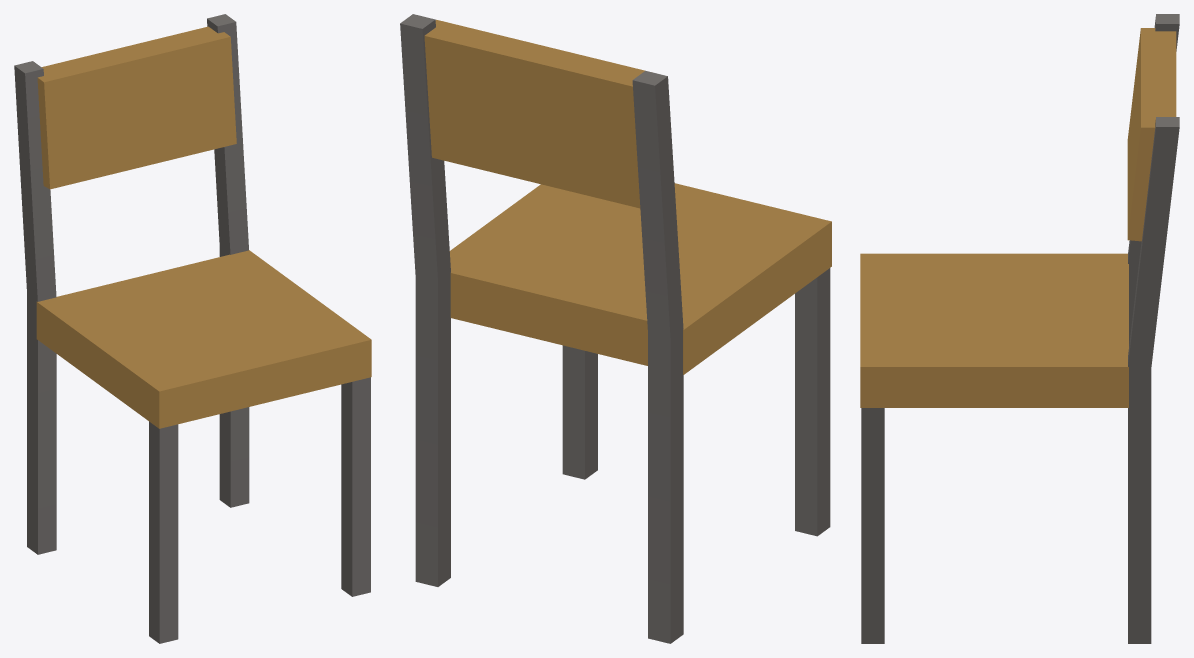
File: Chair.glb
3 renders of one model, left to right at view 1: azimuth 30°, elevation 25°; view 2: azimuth 150°, elevation 25°; view 3: azimuth 270°, elevation 25°, orthographic. The views are drawn at different scales.
Parts seen in each view (by area): view 1: SI_Prop_Chair_01; view 2: SI_Prop_Chair_01; view 3: SI_Prop_Chair_01.
Boxes of the visible parts, x1=… form: SI_Prop_Chair_01: x1=14, y1=14, x2=371, y2=643; SI_Prop_Chair_01: x1=400, y1=14, x2=831, y2=643; SI_Prop_Chair_01: x1=860, y1=14, x2=1179, y2=643.
Size of the model in its own units: 0.00927 by 0.0197 by 0.011.
Materials: 1 (1 with a texture image).
